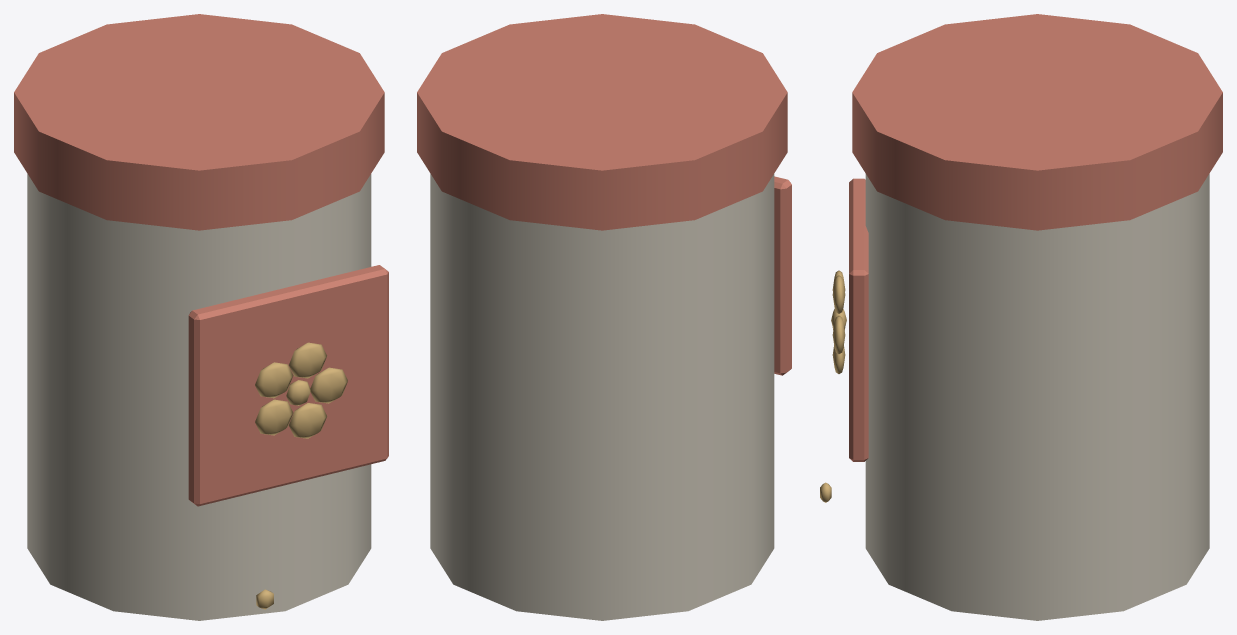
3 renders of one model, left to right at view 1: azimuth 30°, elevation 25°; view 2: azimuth 150°, elevation 25°; view 3: azimuth 270°, elevation 25°, orthographic.
Parts seen in each view (by area): view 1: g_s21; view 2: g_s21; view 3: g_s21.
Boxes of the visible parts, left/top/right/bottom form: g_s21: left=14, top=14, right=388, bottom=620; g_s21: left=417, top=14, right=791, bottom=620; g_s21: left=820, top=14, right=1222, bottom=620.
Bounding box in the file's own units: 0.28 × 0.38 × 0.3043.
